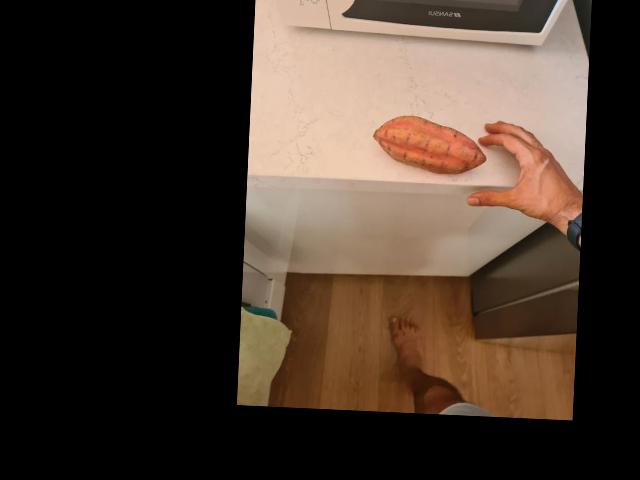sweet_potato: (367, 111, 485, 177)
